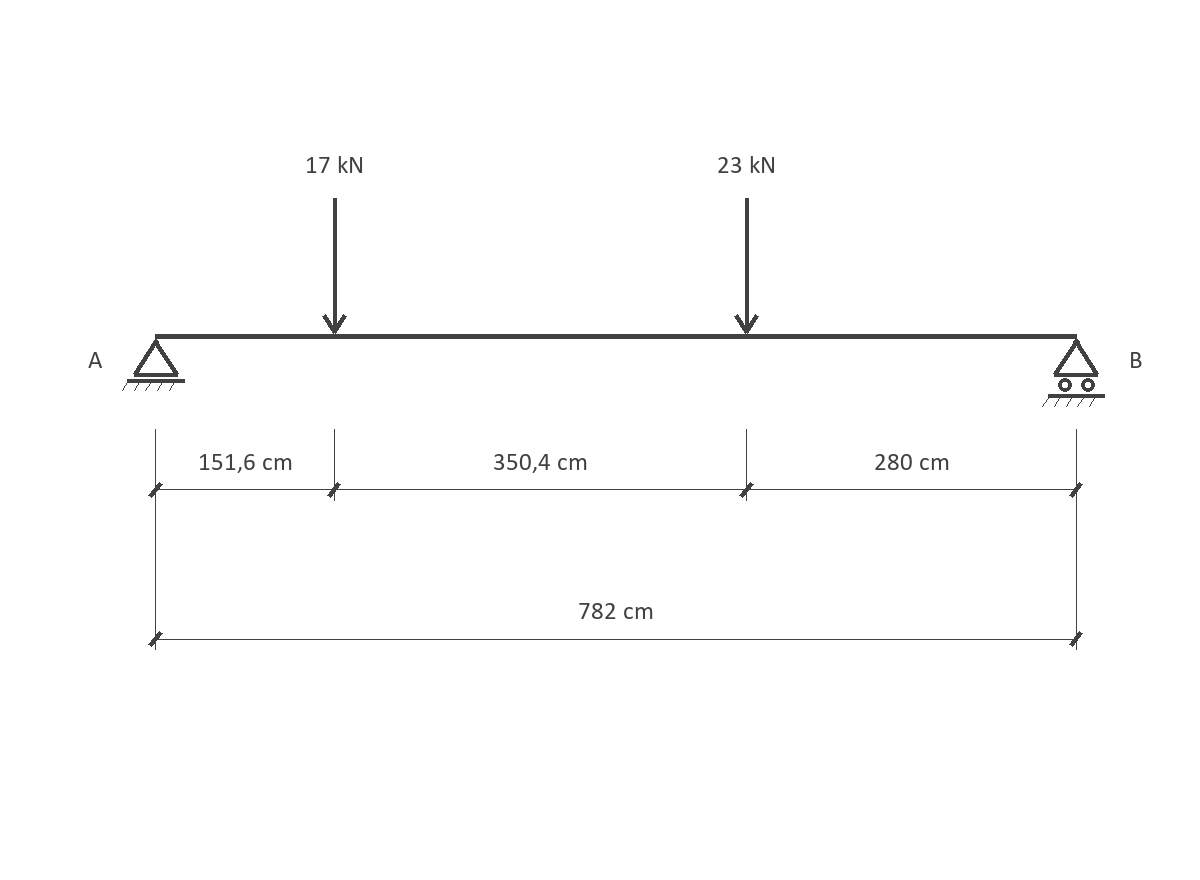pin_support: (122, 339, 185, 391)
point_load: (322, 198, 347, 334), (734, 198, 759, 334)
roller_support: (1042, 339, 1105, 407)
